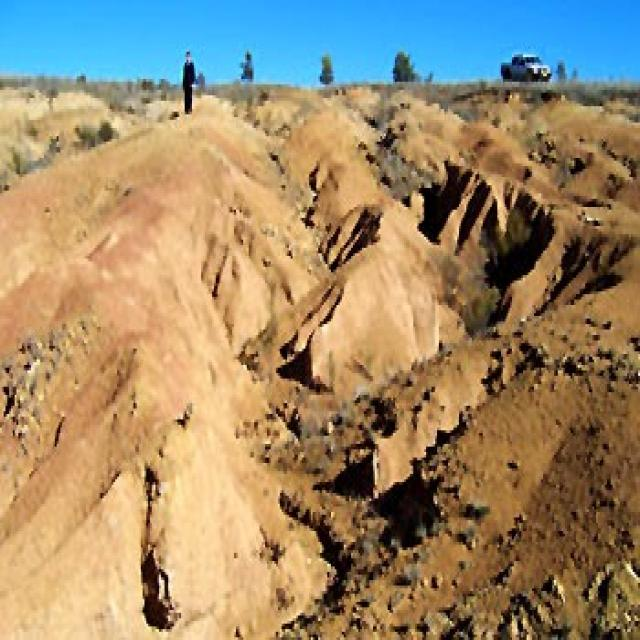Alluvial Soil: (43, 169, 290, 597)
